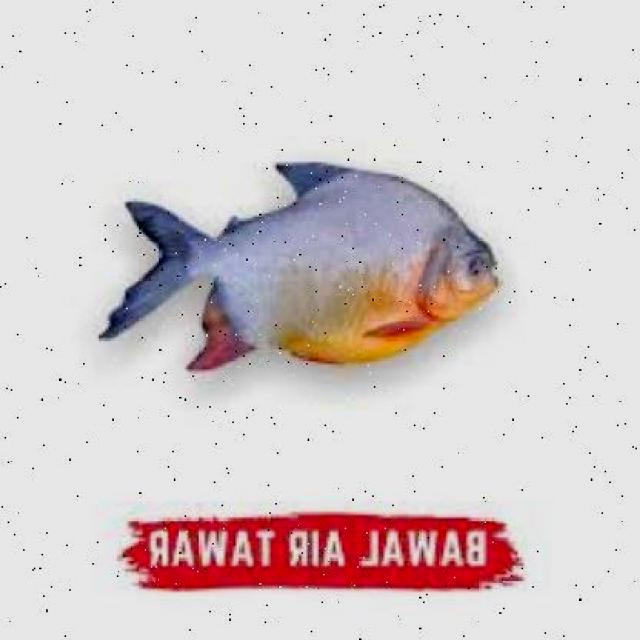ikan-pacu: (109, 159, 503, 367)
